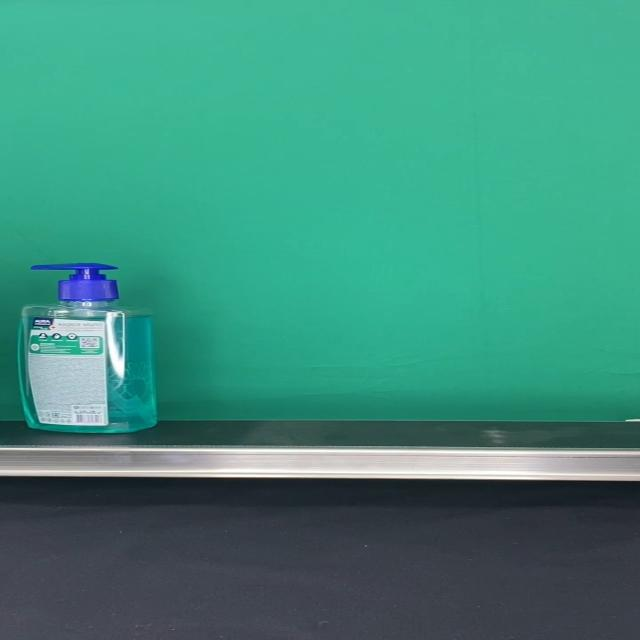Bottle: (18, 263, 158, 434)
Cap: (33, 263, 123, 301)
